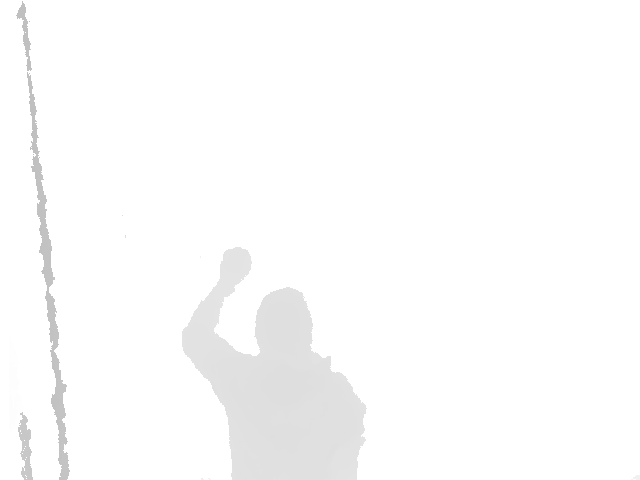hand: (219, 247, 253, 296)
head: (254, 287, 314, 357)
person: (181, 247, 368, 480)
